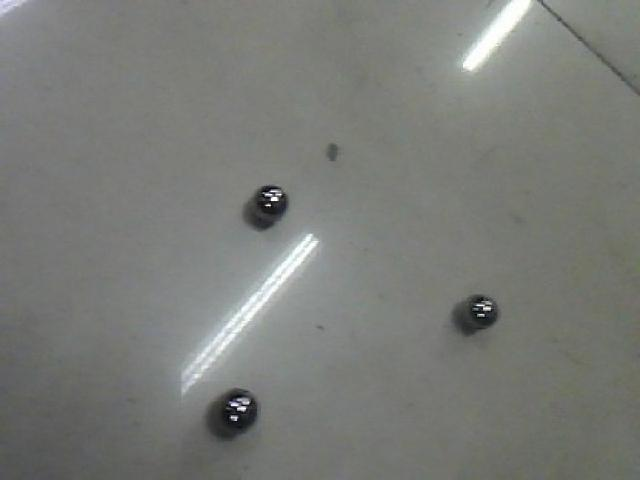steel-ball: (234, 158, 306, 240), (449, 274, 506, 351), (206, 370, 260, 448)
